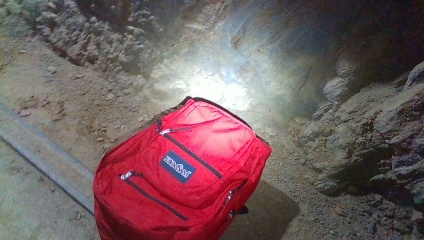backpack: (89, 92, 274, 238)
